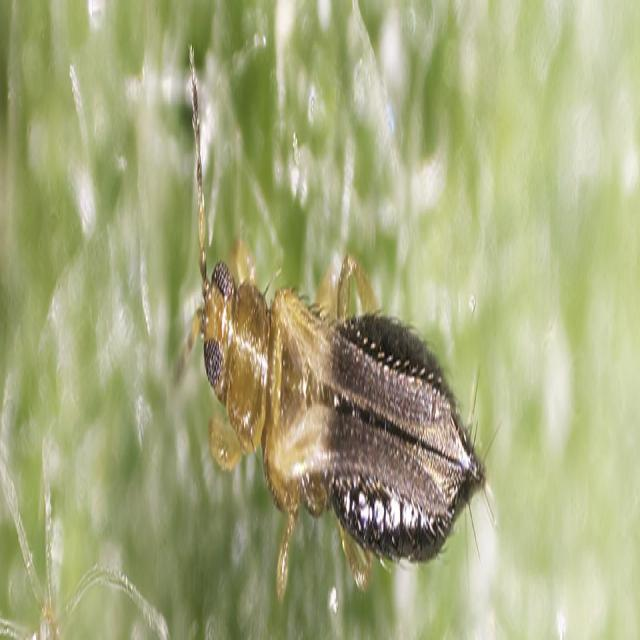Thrip-Adult-: (164, 46, 500, 606)
